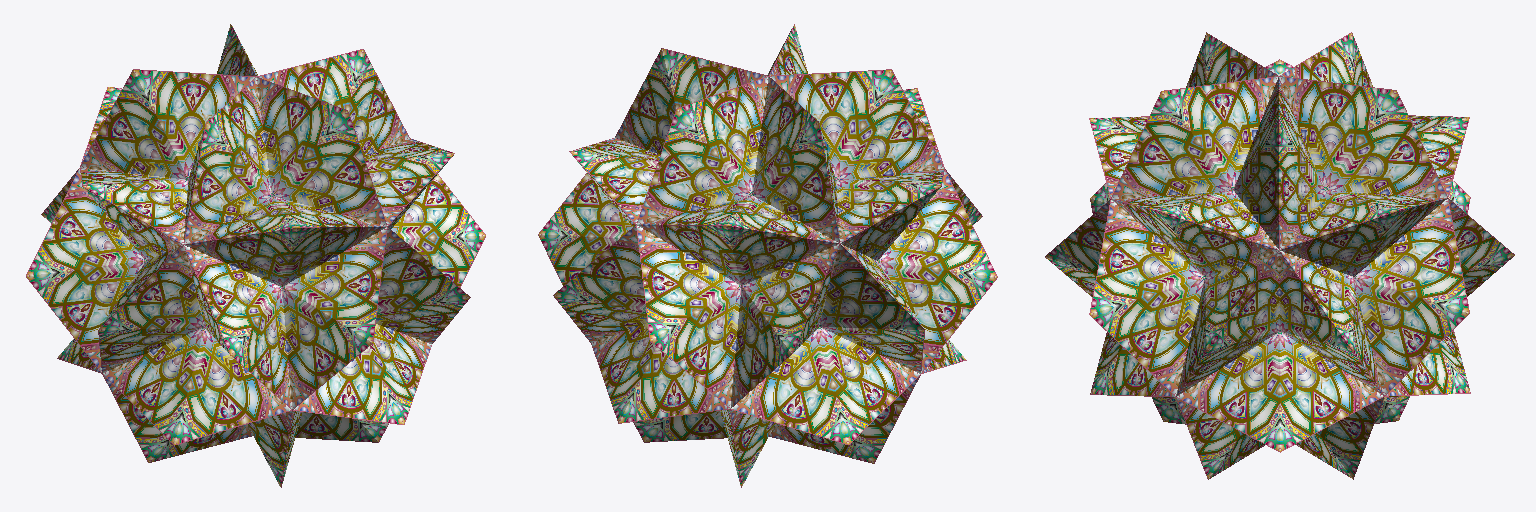
3 views of the same model, side by side, from view 1: azimuth 30°, elevation 25°; view 2: azimuth 150°, elevation 25°; view 3: azimuth 270°, elevation 25° (orthographic).
Size of the model in its own units: 3.62 by 3.25 by 3.8.
1 materials, 1 textured.